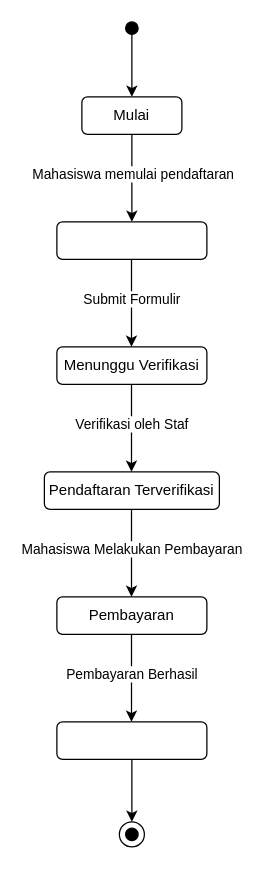
The diagram is 264 pixels wide and 869 high, and some of its shapes have lost their labels. Each missing label, with the centre of its shape:
Mengisi Formulir: the point at 131,240
Pendaftaran Selesai: the point at 131,740
